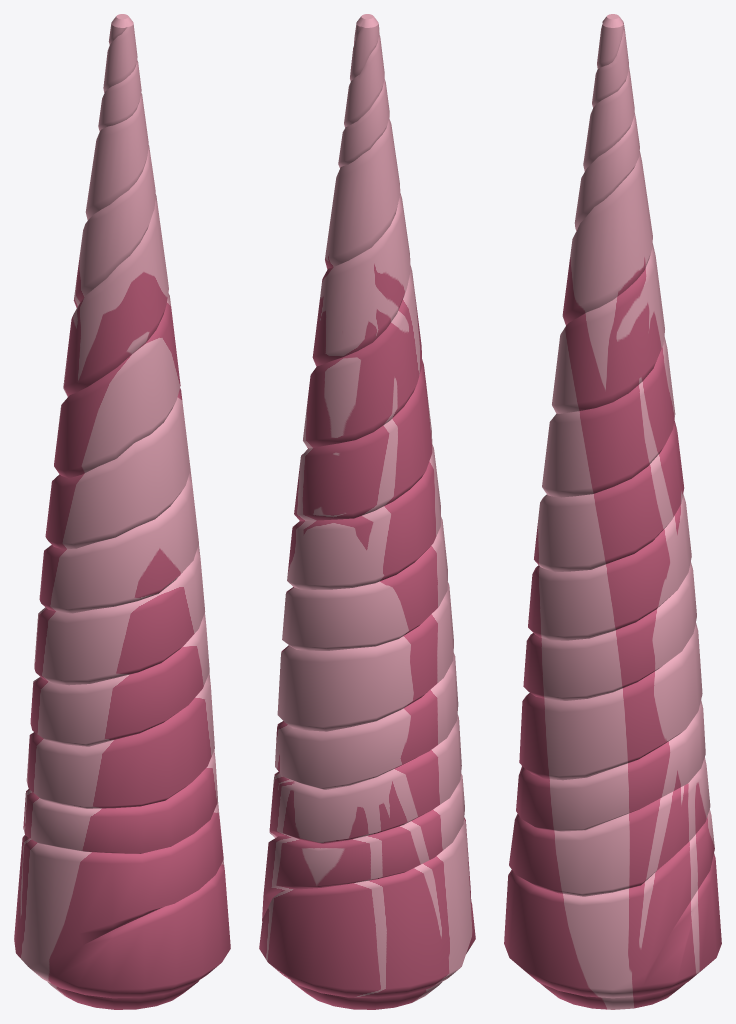
File: VS_grapplinghook_HP.fbx
3 renders of one model, left to right at view 1: azimuth 30°, elevation 25°; view 2: azimuth 150°, elevation 25°; view 3: azimuth 270°, elevation 25°, orthographic.
Visible parts, largest first — view 1: pCylinder1; view 2: pCylinder1; view 3: pCylinder1.
Boxes of the visible parts, box(x1,y1,x2,y2) form: pCylinder1: box(14, 14, 230, 1009); pCylinder1: box(259, 14, 475, 1009); pCylinder1: box(504, 14, 721, 1009).
Size of the model in its own units: 13.68 by 67.32 by 13.68.
